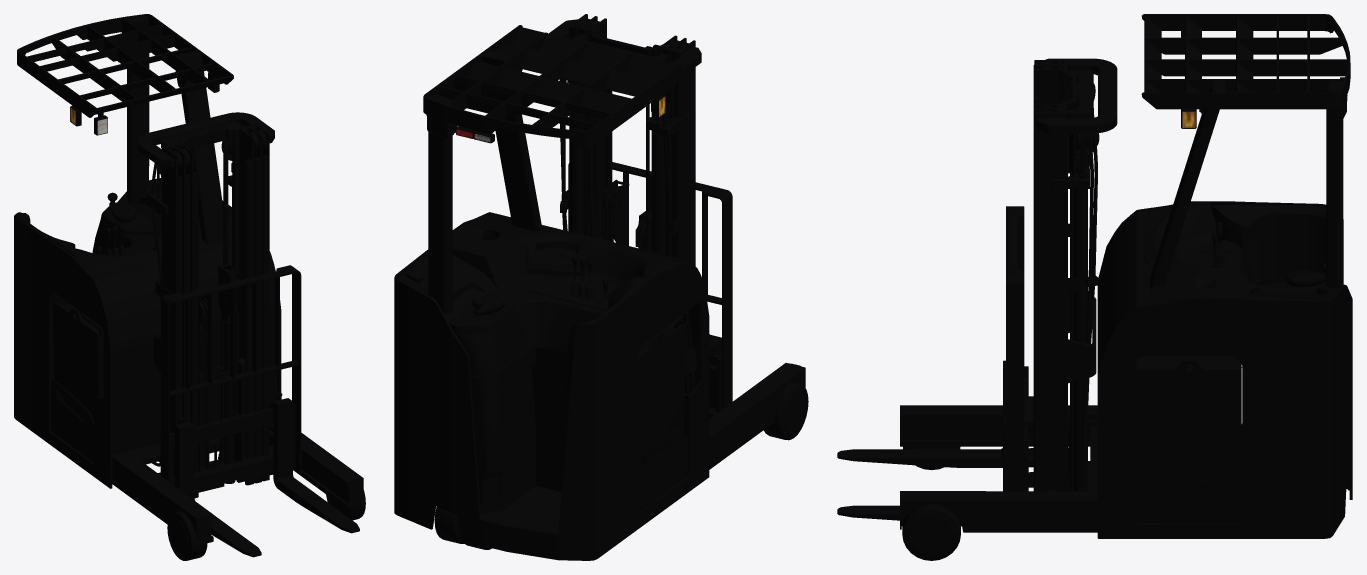
File: Reachlift.glb
The picture shows the model from 3 angles, left to right: view 1: azimuth 30°, elevation 25°; view 2: azimuth 150°, elevation 25°; view 3: azimuth 270°, elevation 25°; orthographic projection. The views are drawn at different scales.
Parts seen in each view (by area): view 1: Body, Must4, Must3, Mast-1, Mast-2, Tire_F, Hose_3_4, Hose_2_1, Lift_1, Handle; view 2: Body, Mast-1, Must4, Must3, Hose_2_1, Mast-2, Tire_F, Tire_R, Hose_3_4, Handle; view 3: Body, Mast-1, Must4, Hose_2_1, Tire_F, Mast-2, Must3, Lift_1, Handle.
Boxes of the visible parts, x1=… form: Body: x1=14, y1=14, x2=363, y2=544; Must4: x1=160, y1=265, x2=359, y2=557; Must3: x1=175, y1=126, x2=253, y2=498; Mast-1: x1=137, y1=112, x2=274, y2=481; Mast-2: x1=156, y1=122, x2=261, y2=483; Tire_F: x1=167, y1=490, x2=365, y2=560; Hose_3_4: x1=200, y1=268, x2=237, y2=467; Hose_2_1: x1=150, y1=140, x2=233, y2=466; Lift_1: x1=127, y1=430, x2=273, y2=473; Handle: x1=107, y1=192, x2=135, y2=222; Body: x1=394, y1=25, x2=805, y2=560; Mast-1: x1=549, y1=14, x2=701, y2=265; Must4: x1=568, y1=162, x2=800, y2=417; Must3: x1=585, y1=18, x2=677, y2=251; Hose_2_1: x1=559, y1=78, x2=671, y2=256; Mast-2: x1=567, y1=16, x2=686, y2=256; Tire_F: x1=763, y1=381, x2=808, y2=440; Tire_R: x1=434, y1=507, x2=491, y2=549; Hose_3_4: x1=605, y1=185, x2=645, y2=249; Handle: x1=472, y1=294, x2=504, y2=315; Body: x1=900, y1=14, x2=1352, y2=538; Mast-1: x1=1034, y1=58, x2=1117, y2=491; Must4: x1=837, y1=206, x2=1033, y2=520; Hose_2_1: x1=1068, y1=83, x2=1097, y2=491; Tire_F: x1=902, y1=446, x2=960, y2=560; Mast-2: x1=1033, y1=61, x2=1099, y2=491; Must3: x1=1033, y1=66, x2=1076, y2=491; Lift_1: x1=1068, y1=419, x2=1097, y2=491; Handle: x1=1286, y1=263, x2=1326, y2=287.
Size of the model in its own units: 1.2 by 2.48 by 2.57.
2 materials, 1 textured.
